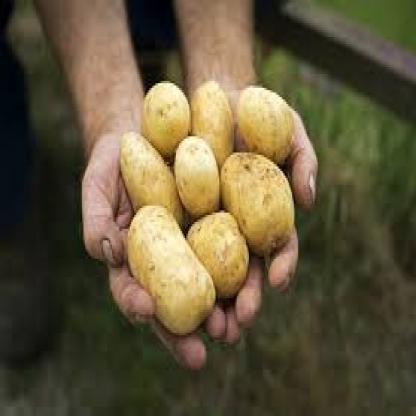Disposable tableware: (101, 58, 349, 354)
